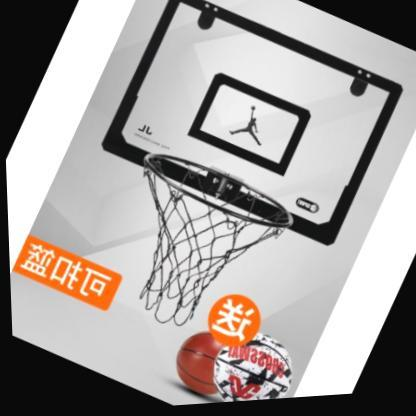basketball: (193, 319, 302, 406)
rim: (77, 135, 301, 361)
